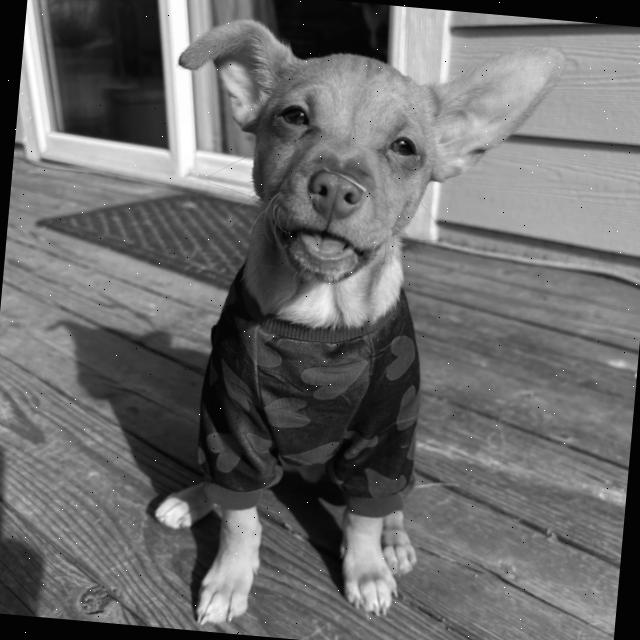chihuahua_dog: (152, 1, 572, 320)
